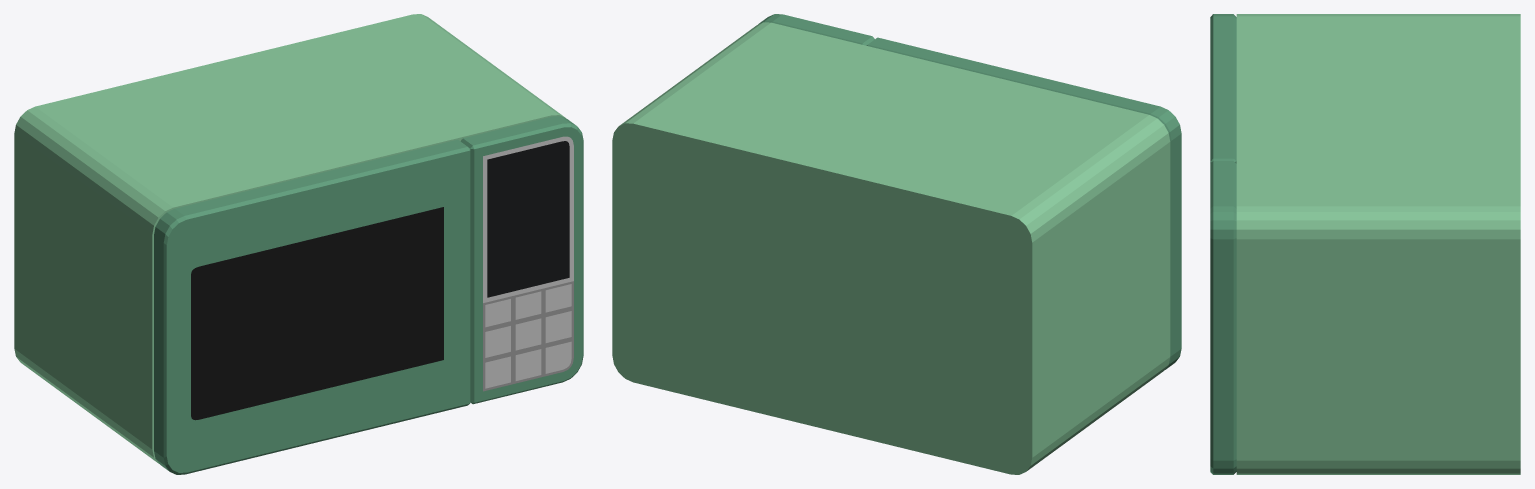
File: Prop_Microwave_03.fbx
The picture shows the model from 3 angles, left to right: view 1: azimuth 30°, elevation 25°; view 2: azimuth 150°, elevation 25°; view 3: azimuth 270°, elevation 25°; orthographic projection. The views are drawn at different scales.
Visible parts, largest first — view 1: Prop_Microwave_03; view 2: Prop_Microwave_03; view 3: Prop_Microwave_03.
Part boxes in pixels (x1,y1,x2,y2): Prop_Microwave_03: (14, 14, 583, 474); Prop_Microwave_03: (612, 14, 1181, 474); Prop_Microwave_03: (1210, 14, 1520, 474).
Bounding box in the file's own units: 51.39 × 30.27 × 31.98.
